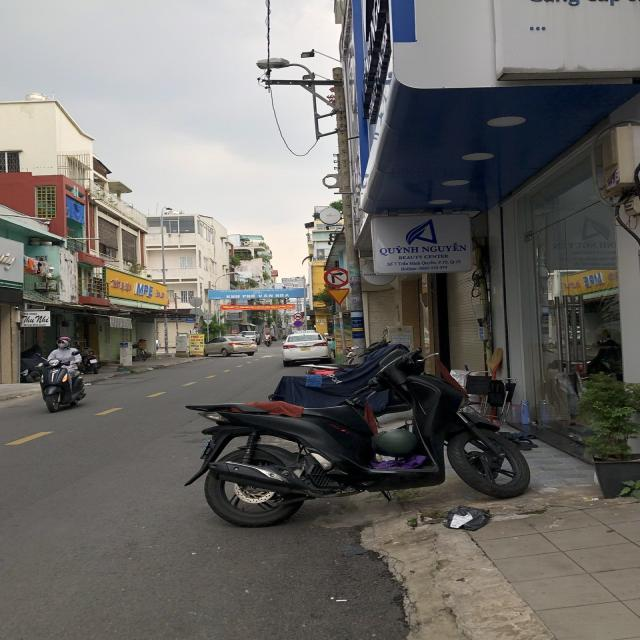Bien bao cam re phai: (323, 266, 353, 288)
Bien bao giao nhau voi duong uu tien: (322, 287, 354, 307)
